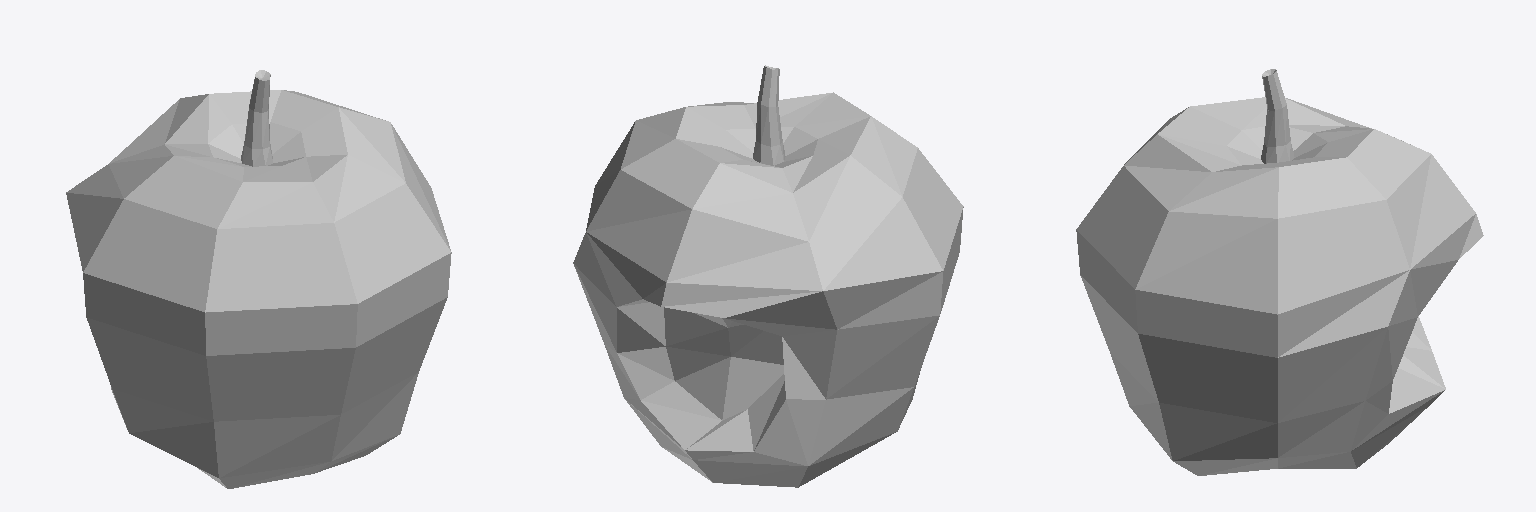
The model's file is appleFull.obj.
The picture shows the model from 3 angles: view 1: azimuth 30°, elevation 25°; view 2: azimuth 150°, elevation 25°; view 3: azimuth 270°, elevation 25°; orthographic projection.
Parts seen in each view (by area): view 1: pSphere6; view 2: pSphere6; view 3: pSphere6.
Part boxes in pixels (left/top/right/bottom): pSphere6: left=66, top=70, right=451, bottom=488; pSphere6: left=573, top=65, right=963, bottom=487; pSphere6: left=1076, top=69, right=1483, bottom=475.
Bounding box in the file's own units: 6.32 × 6.47 × 6.39.